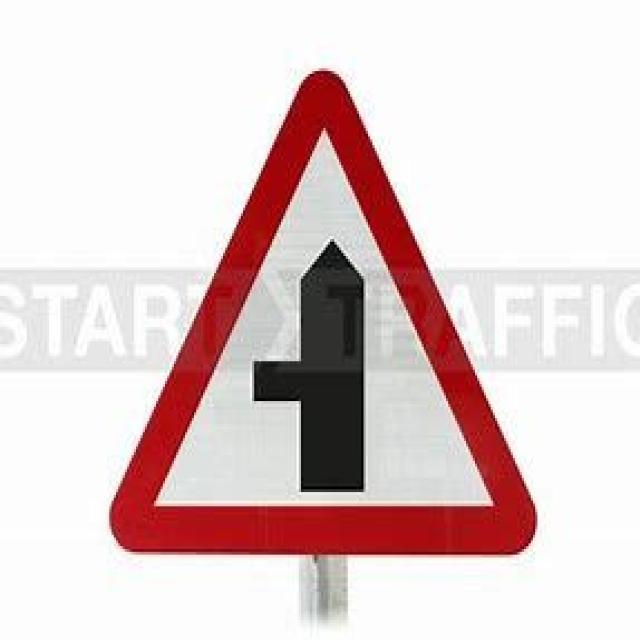side road left: (110, 73, 539, 561)
